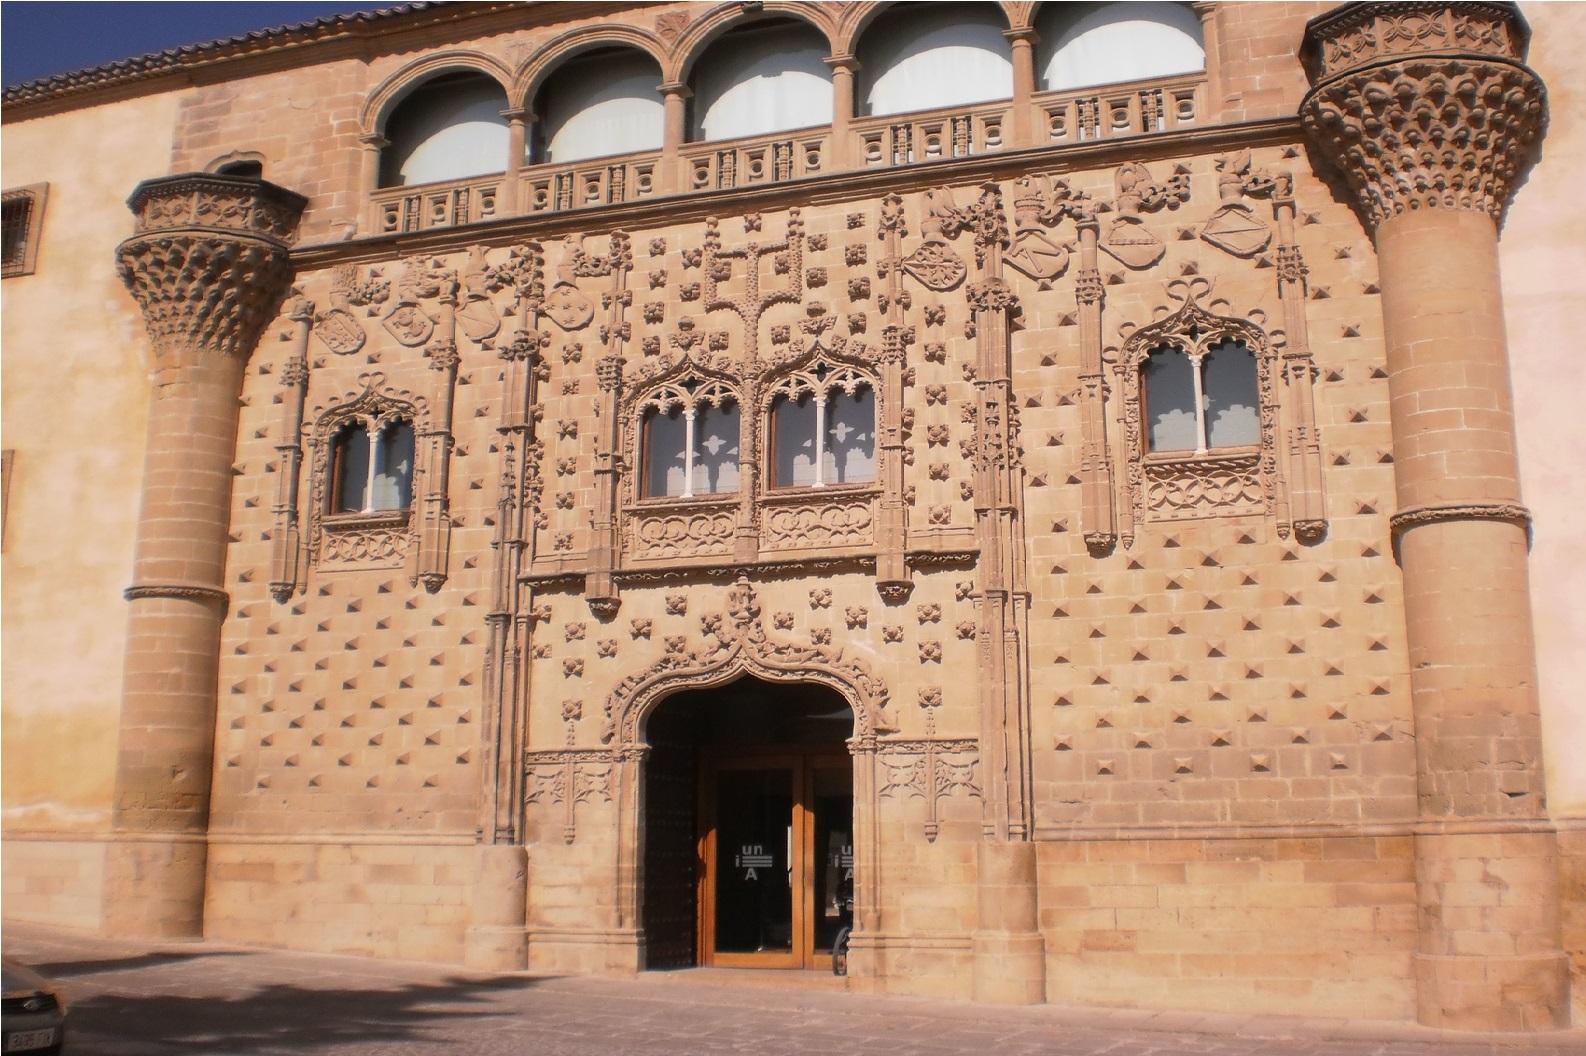arco-conopial: (617, 633, 870, 708), (1113, 293, 1273, 358), (751, 336, 886, 396), (623, 349, 749, 405), (309, 378, 425, 430)
arco-medio-punto: (516, 16, 673, 115), (668, 1, 844, 87), (361, 48, 518, 139)
